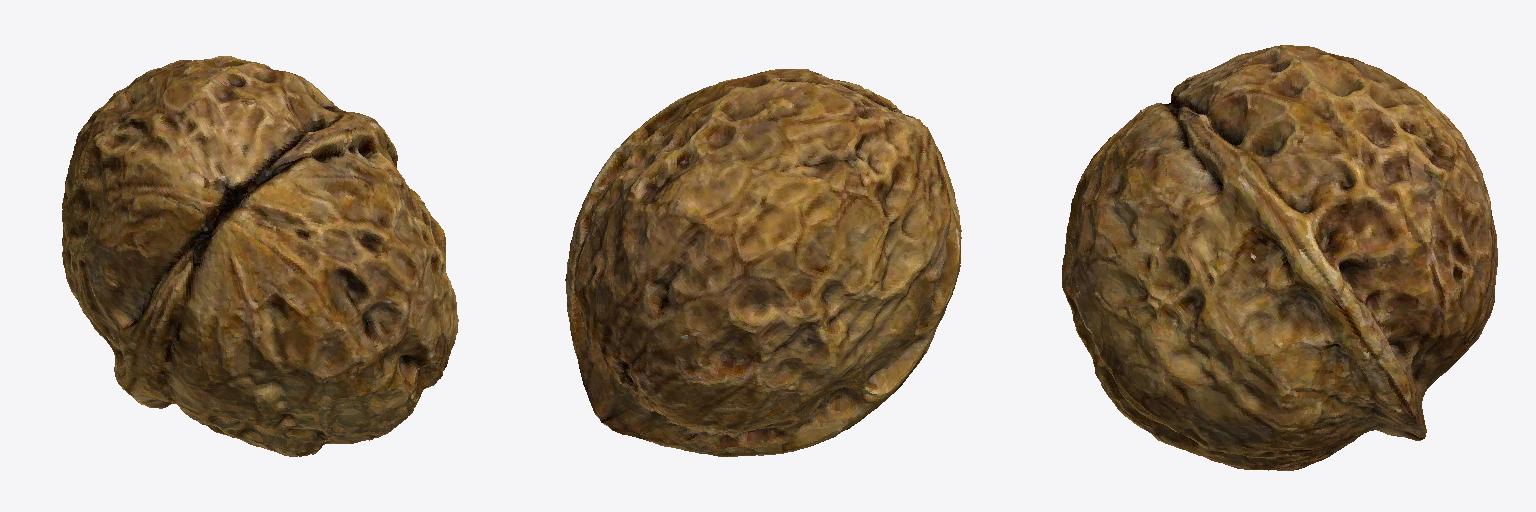
3 renders of one model, left to right at view 1: azimuth 30°, elevation 25°; view 2: azimuth 150°, elevation 25°; view 3: azimuth 270°, elevation 25°, orthographic.
Size of the model in its own units: 21.51 by 22.76 by 24.3.
Materials: 2 (1 with a texture image).